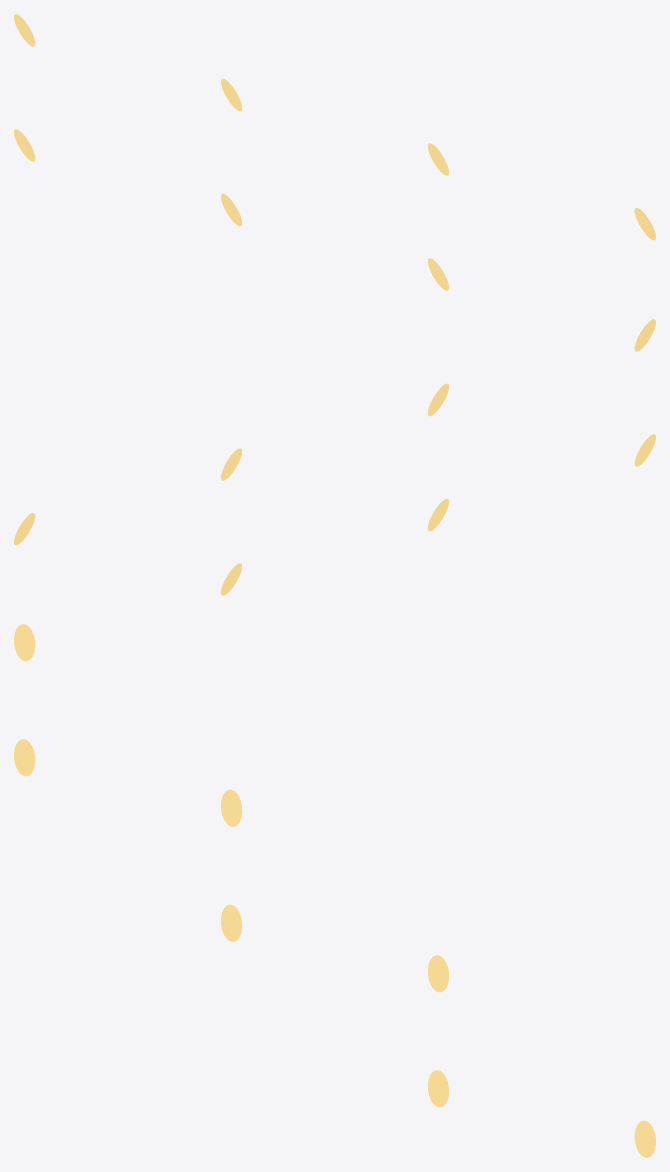
The picture shows the model from 3 angles, top to bottom: view 1: azimuth 30°, elevation 25°; view 2: azimuth 150°, elevation 25°; view 3: azimuth 330°, elevation 25°; orthographic projection.
Size of what is drawn, in the model's own units: 4.88 by 2.79 by 0.2521.
